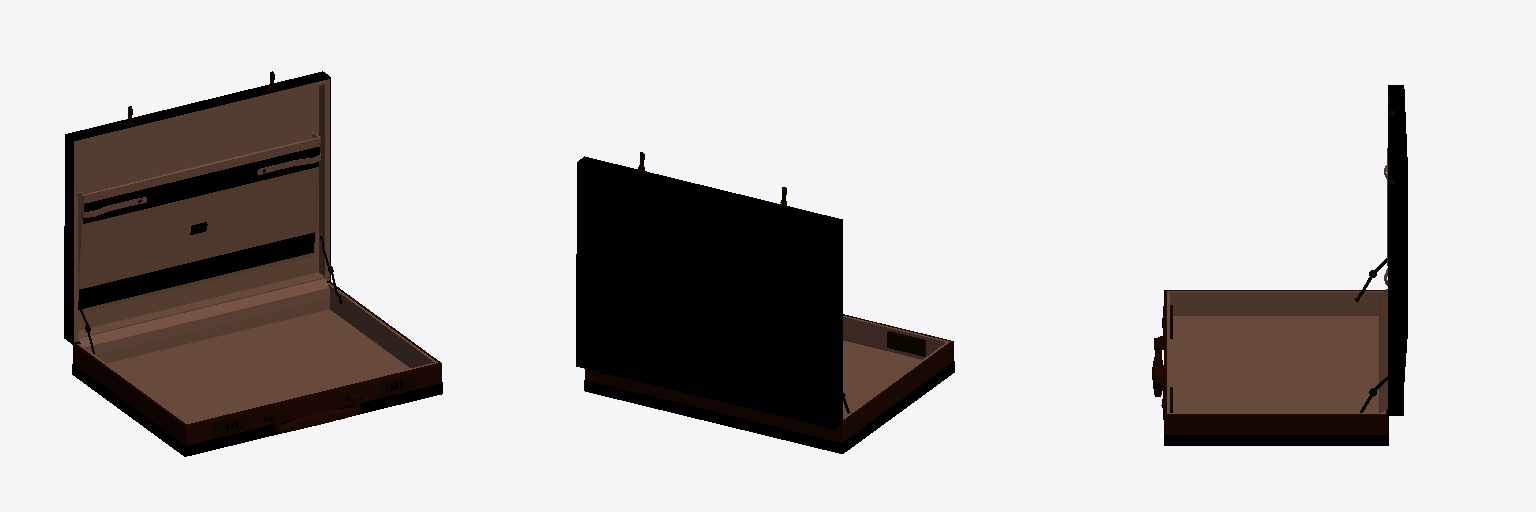
Rendered from suitcase.obj.
3 views of the same model, side by side, from view 1: azimuth 30°, elevation 25°; view 2: azimuth 150°, elevation 25°; view 3: azimuth 270°, elevation 25° (orthographic).
Parts seen in each view (by area): view 1: suitcase1 Suitcase_CTRL polySurface4 polySurface34 up_side, suitcase1 Suitcase_CTRL bottom inside Inside_part, suitcase1 Suitcase_CTRL polySurface34 up_side Mesh, suitcase1 Suitcase_CTRL nurbsToPoly1, suitcase1 Suitcase_CTRL bottom middel_part inside, suitcase1 Suitcase_CTRL polySurface34 up_side, suitcase1 Suitcase_CTRL polySurface34 up_side polySurface35, suitcase1 Suitcase_CTRL polySurface34 up_side polySurface11, suitcase1 Suitcase_CTRL outside bottom, suitcase1 Suitcase_CTRL Hand, suitcase1 Suitcase_CTRL bottom R_luck, suitcase1 Suitcase_CTRL bottom L_luck; view 2: suitcase1 Suitcase_CTRL polySurface34 up_side, suitcase1 Suitcase_CTRL bottom middel_part inside, suitcase1 Suitcase_CTRL bottom inside Inside_part, suitcase1 Suitcase_CTRL outside bottom, suitcase1 Suitcase_CTRL pCube2; view 3: suitcase1 Suitcase_CTRL bottom inside Inside_part, suitcase1 Suitcase_CTRL polySurface34 up_side, suitcase1 Suitcase_CTRL bottom middel_part inside, suitcase1 Suitcase_CTRL outside bottom, suitcase1 Suitcase_CTRL nurbsToPoly1.
Boxes of the visible parts, <box> form: suitcase1 Suitcase_CTRL polySurface4 polySurface34 up_side: <box>76,81,327,339</box>; suitcase1 Suitcase_CTRL bottom inside Inside_part: <box>77,283,437,423</box>; suitcase1 Suitcase_CTRL polySurface34 up_side Mesh: <box>78,132,320,313</box>; suitcase1 Suitcase_CTRL nurbsToPoly1: <box>79,279,329,363</box>; suitcase1 Suitcase_CTRL bottom middel_part inside: <box>73,282,441,445</box>; suitcase1 Suitcase_CTRL polySurface34 up_side: <box>64,71,330,344</box>; suitcase1 Suitcase_CTRL polySurface34 up_side polySurface35: <box>78,232,314,309</box>; suitcase1 Suitcase_CTRL polySurface34 up_side polySurface11: <box>83,147,319,223</box>; suitcase1 Suitcase_CTRL outside bottom: <box>72,364,442,456</box>; suitcase1 Suitcase_CTRL Hand: <box>274,394,359,432</box>; suitcase1 Suitcase_CTRL bottom R_luck: <box>211,414,248,437</box>; suitcase1 Suitcase_CTRL bottom L_luck: <box>380,373,416,396</box>; suitcase1 Suitcase_CTRL polySurface34 up_side: <box>576,156,842,429</box>; suitcase1 Suitcase_CTRL bottom middel_part inside: <box>585,314,953,442</box>; suitcase1 Suitcase_CTRL bottom inside Inside_part: <box>843,316,949,419</box>; suitcase1 Suitcase_CTRL outside bottom: <box>584,361,954,453</box>; suitcase1 Suitcase_CTRL pCube2: <box>887,331,925,356</box>; suitcase1 Suitcase_CTRL bottom inside Inside_part: <box>1167,291,1385,413</box>; suitcase1 Suitcase_CTRL polySurface34 up_side: <box>1388,85,1407,415</box>; suitcase1 Suitcase_CTRL bottom middel_part inside: <box>1164,290,1387,434</box>; suitcase1 Suitcase_CTRL outside bottom: <box>1164,416,1388,445</box>; suitcase1 Suitcase_CTRL nurbsToPoly1: <box>1379,289,1387,412</box>.
Size of the model in its own units: 76.91 by 72.18 by 65.91.